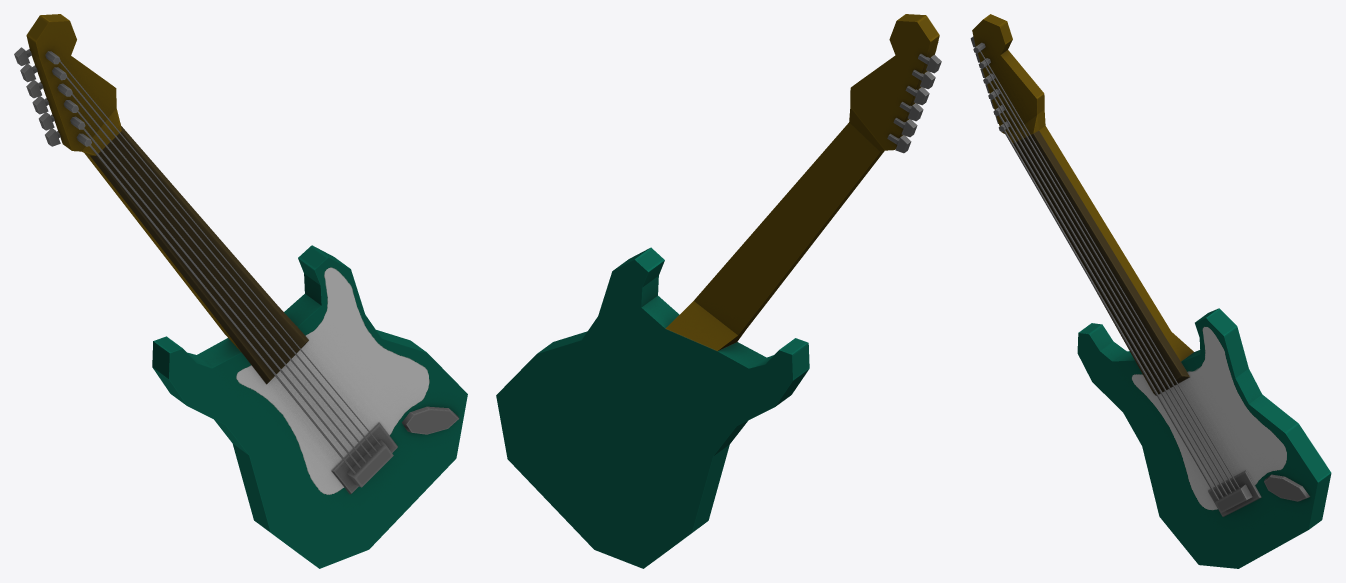
The model's file is Electric guitar.glb.
3 renders of one model, left to right at view 1: azimuth 30°, elevation 25°; view 2: azimuth 150°, elevation 25°; view 3: azimuth 330°, elevation 25°, orthographic. The views are drawn at different scales.
Parts seen in each view (by area): view 1: ElectricGuitar_mesh; view 2: ElectricGuitar_mesh; view 3: ElectricGuitar_mesh.
Boxes of the visible parts, x1,y1,x2,y2 form: ElectricGuitar_mesh: (14, 14, 467, 568); ElectricGuitar_mesh: (496, 14, 941, 568); ElectricGuitar_mesh: (970, 14, 1331, 568).
Bounding box in the file's own units: 3.8 × 5.04 × 0.3579.
Materials: 1 (1 with a texture image).
